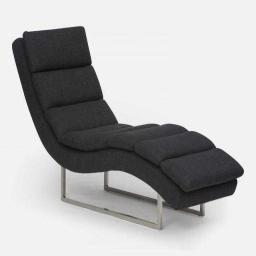Chair: (11, 26, 245, 229)
